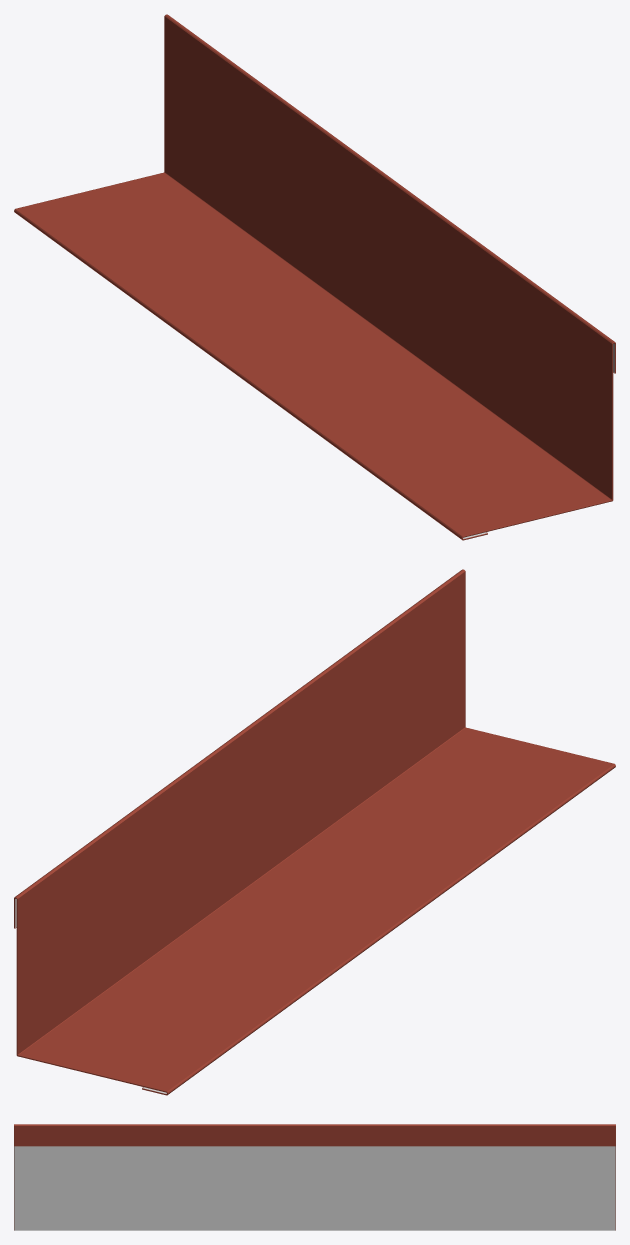
The picture shows the model from 3 angles, top to bottom: view 1: azimuth 30°, elevation 25°; view 2: azimuth 150°, elevation 25°; view 3: azimuth 270°, elevation 25°; orthographic projection. The views are drawn at different scales.
Visible parts, largest first — view 1: w1ll-k; view 2: w1ll-k; view 3: w1ll-b, w1ll-k.
Part boxes in pixels (<box>): w1ll-k: <box>14,14,615,540</box>; w1ll-k: <box>14,569,615,1095</box>; w1ll-b: <box>14,1146,615,1230</box>; w1ll-k: <box>14,1124,615,1230</box>.
Bounding box in the file's own units: 398 × 398 × 2002.
